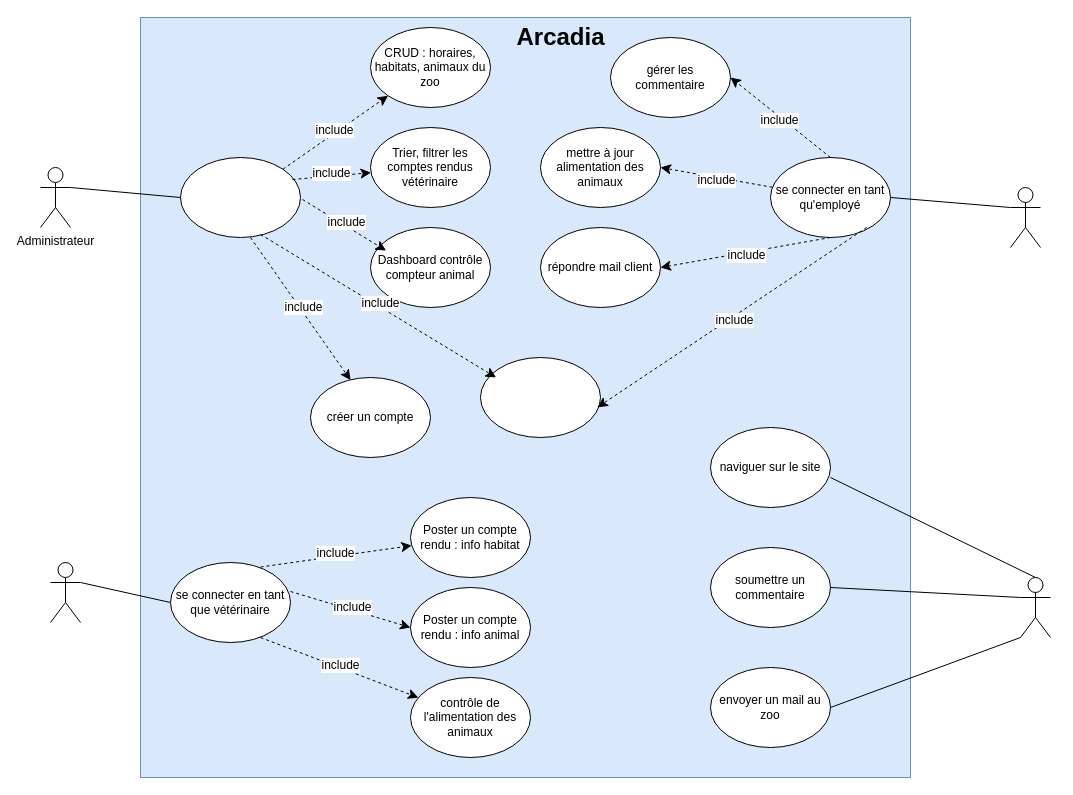
Image size: 1073x795. Some labels were removed from this diagram. Here are the shapes that lost their labels. From the top down, the box of each, then its label:
(180, 156, 300, 238): se connecter en tant qu'admin
(1010, 186, 1040, 248): Employé
(480, 356, 600, 438): CRUD : services du zoo
(50, 562, 80, 622): Vétérinaire
(1020, 576, 1050, 638): Visiteur
